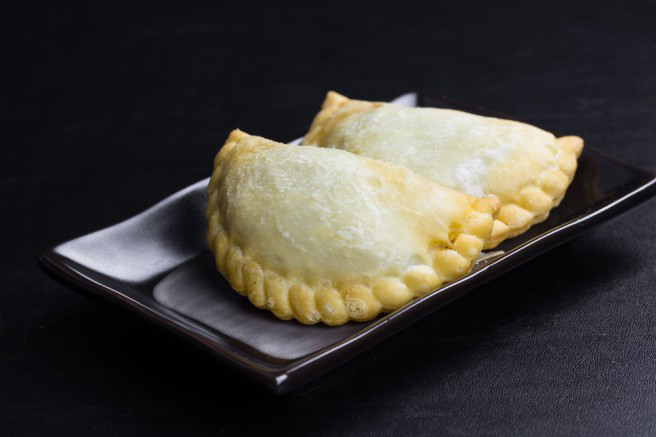Curry Puff: (190, 122, 499, 341), (308, 79, 582, 245)
